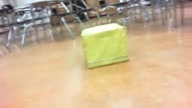cube: (81, 23, 127, 69)
